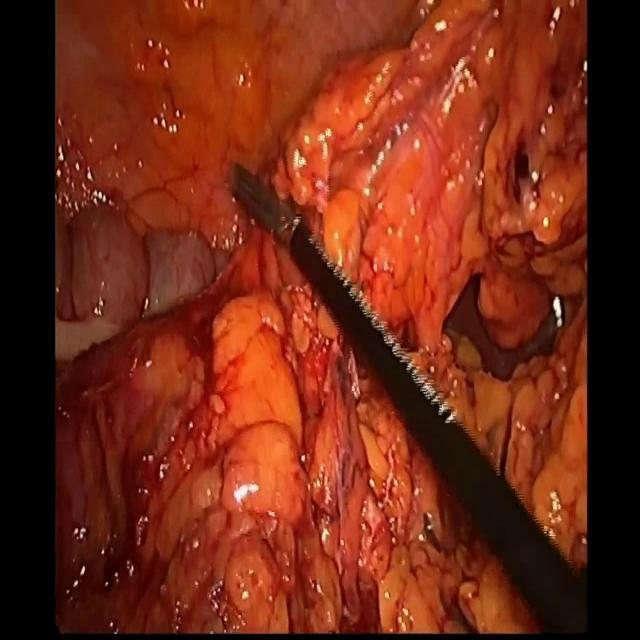surgical-area: (55, 0, 588, 634)
surgical-tool: (232, 161, 588, 632)
